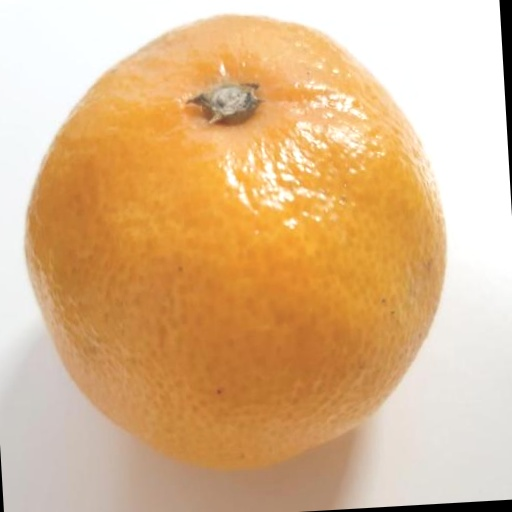fruit: (26, 16, 445, 468)
